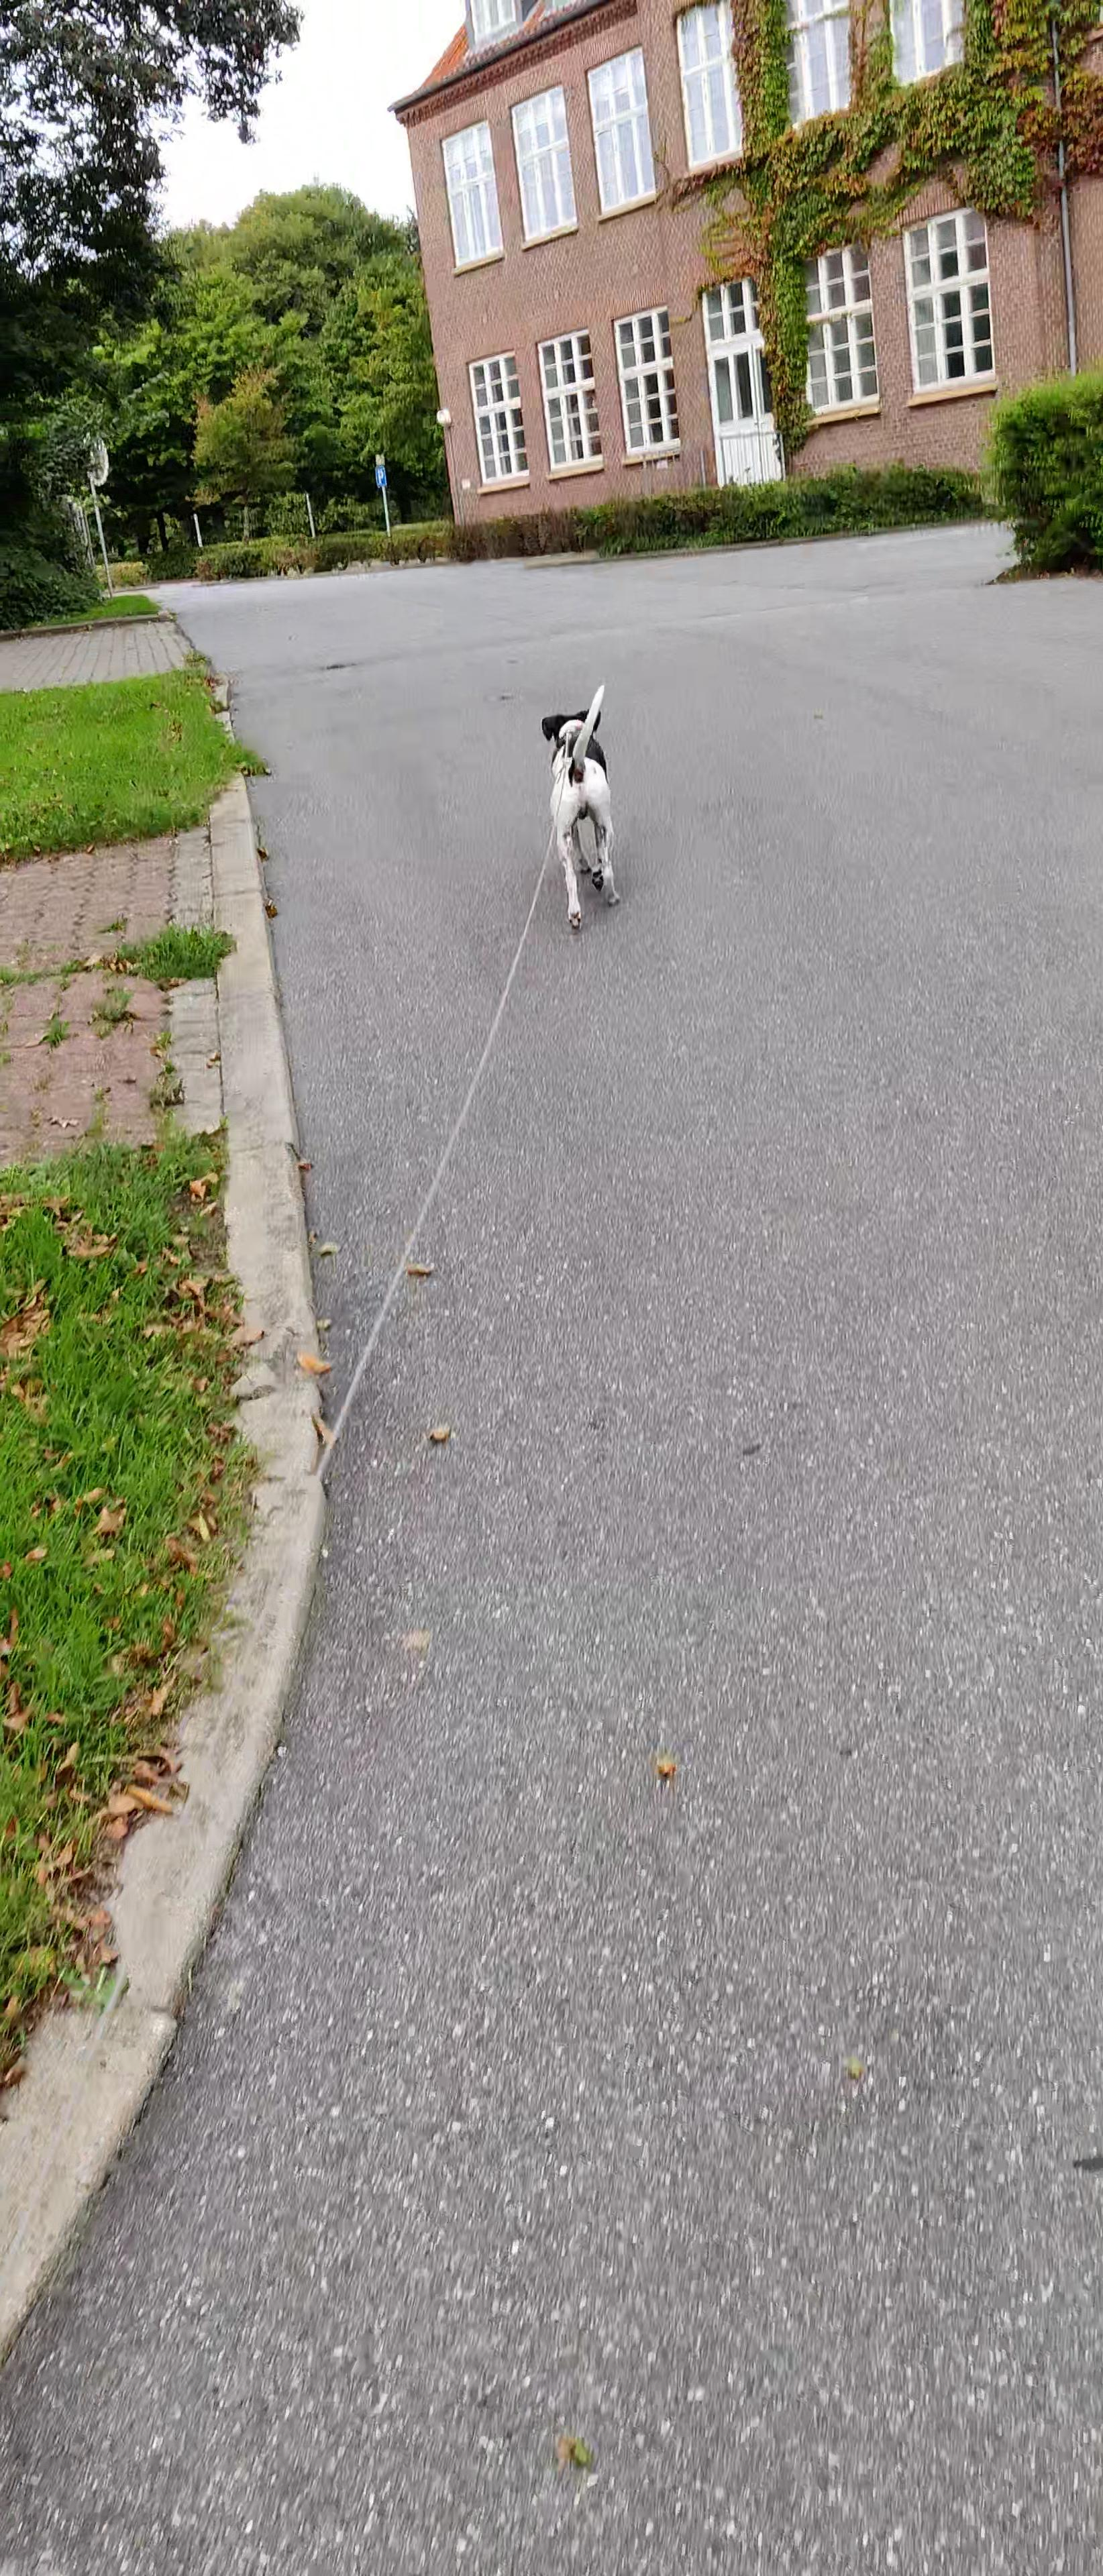Dog: (534, 677, 625, 943)
